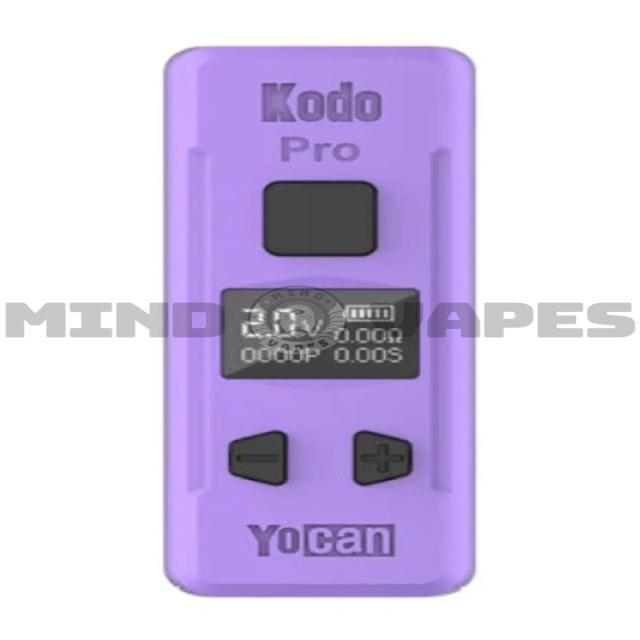Vapes: (161, 45, 478, 598)
